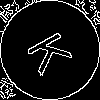K: (25, 25, 82, 76)
